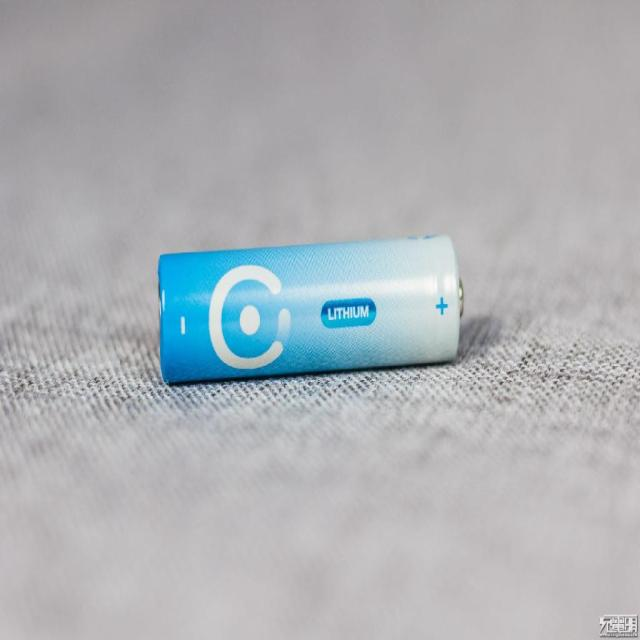-Hazardous waste - battery-: (158, 228, 464, 382)
